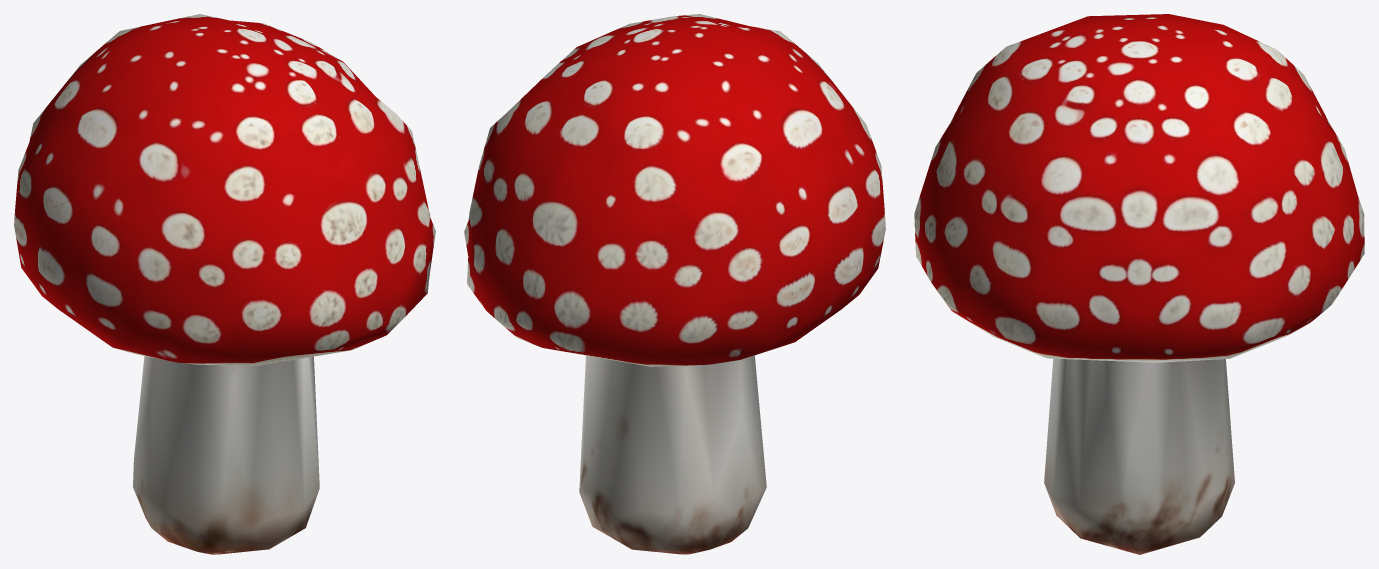
Rendered from mushroom.glb.
3 views of the same model, side by side, from view 1: azimuth 30°, elevation 25°; view 2: azimuth 150°, elevation 25°; view 3: azimuth 270°, elevation 25° (orthographic).
Parts seen in each view (by area): view 1: Mesh_0; view 2: Mesh_0; view 3: Mesh_0.
Part boxes in pixels (x1,y1,x2,y2): Mesh_0: (14,14,435,554); Mesh_0: (464,14,885,554); Mesh_0: (914,14,1364,554).
Bounding box in the file's own units: 1.52 × 2 × 1.66.
1 material, 1 textured.
